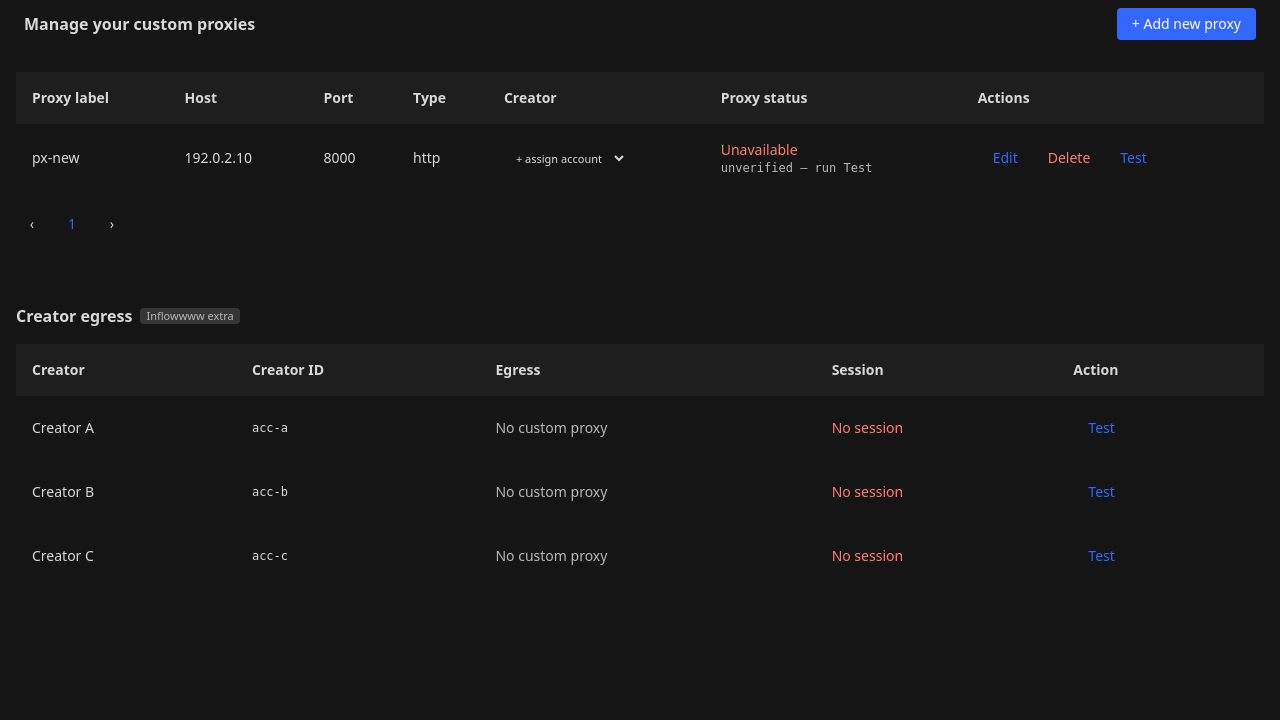
/creators/proxy › a passing test turns an unverified proxy Available
Expected: the text "px-new" is shown, [16, 124, 169, 192]
Click the button "Test" in the row of "px-new": (1134, 158) [1105, 142, 1162, 174]
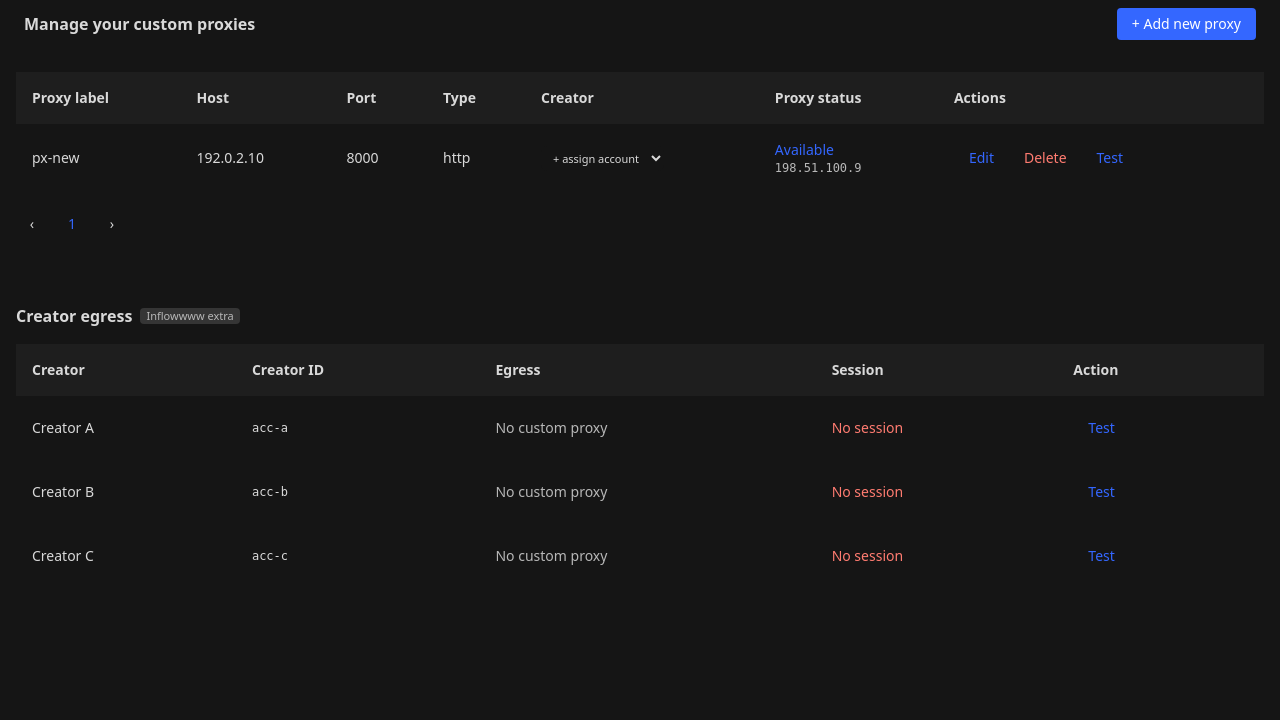
Expected: the text "Available" is shown, [775, 140, 834, 159]
Now the text "198.51.100.9" is shown, box [775, 161, 862, 175]
